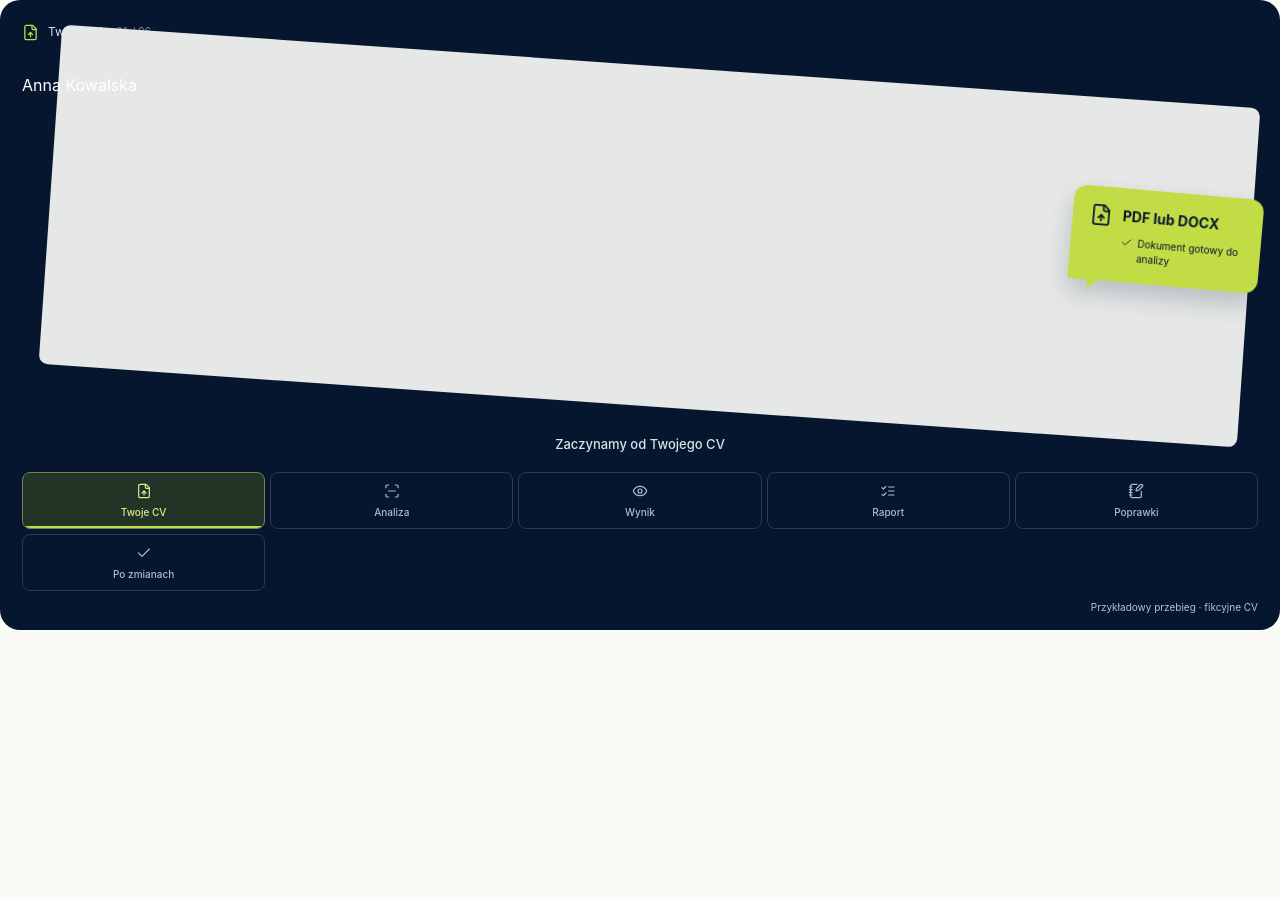
Test: animated CV flow › respects reduced motion and keeps localized manual navigation in pl
The width and height of the screenshot is (1280, 900).
Click the button with aria-label "Pokaż etap: Raport": (888, 500) [767,472,1010,529]
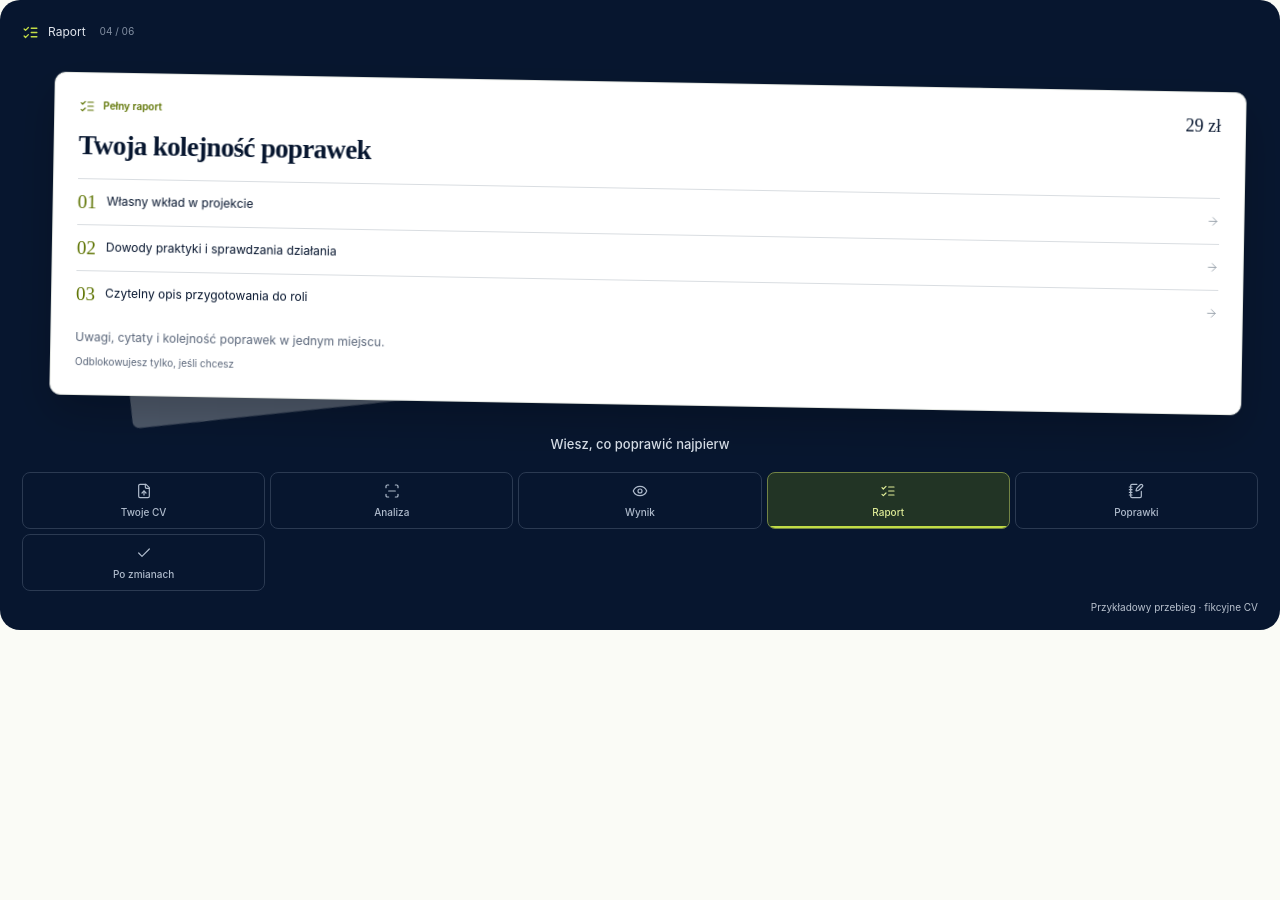
Check: the heading "Twoja kolejność poprawek" is shown, box [78,130,371,165]
Check: the text "29 zł" is shown, box [1186,116,1221,135]
